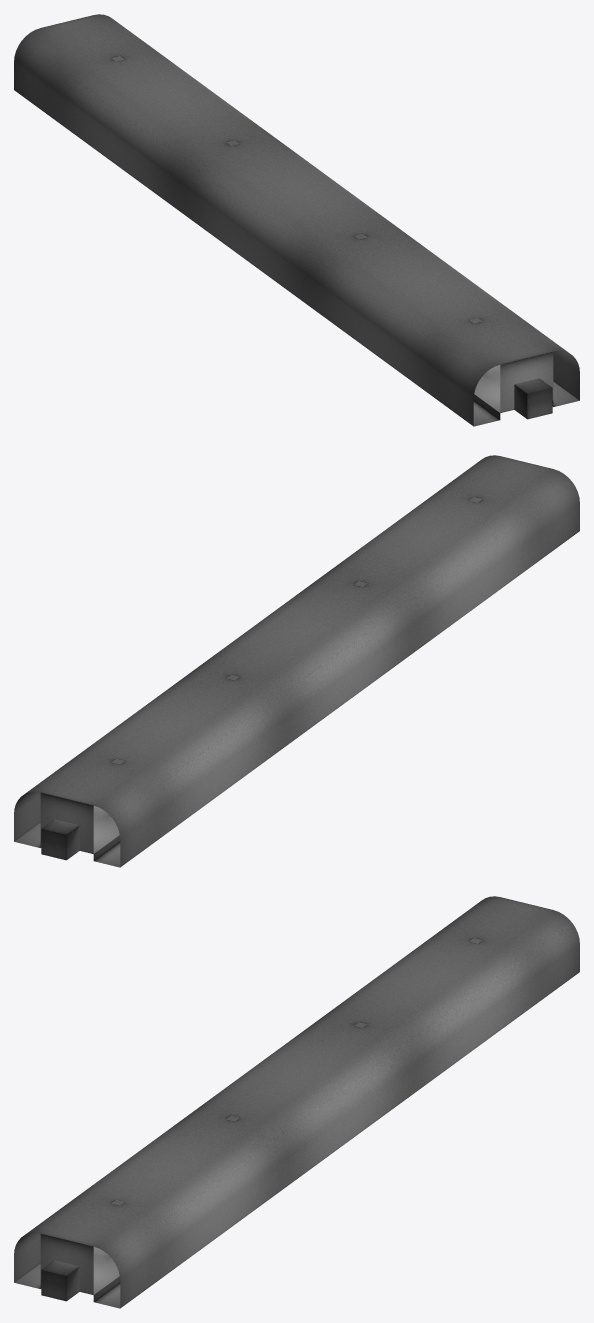
The model's file is shell.obj.
The picture shows the model from 3 angles, top to bottom: view 1: azimuth 30°, elevation 25°; view 2: azimuth 150°, elevation 25°; view 3: azimuth 330°, elevation 25°; orthographic projection.
Parts seen in each view (by area): view 1: shell; view 2: shell; view 3: shell.
Boxes of the visible parts, x1,y1,x2,y2 form: shell: (14, 14, 579, 426); shell: (14, 455, 579, 867); shell: (14, 896, 579, 1308).
Bounding box in the file's own units: 2.4 × 1.2 × 19.03.
1 material, 1 textured.
